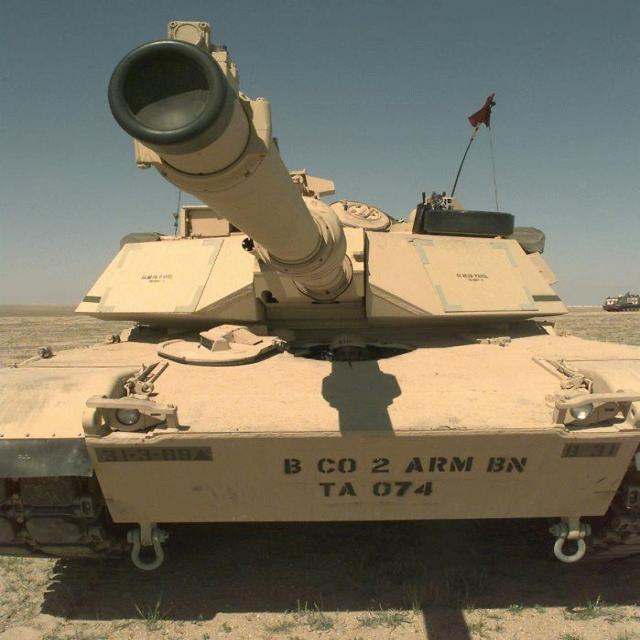Tanks: (8, 19, 575, 606)
